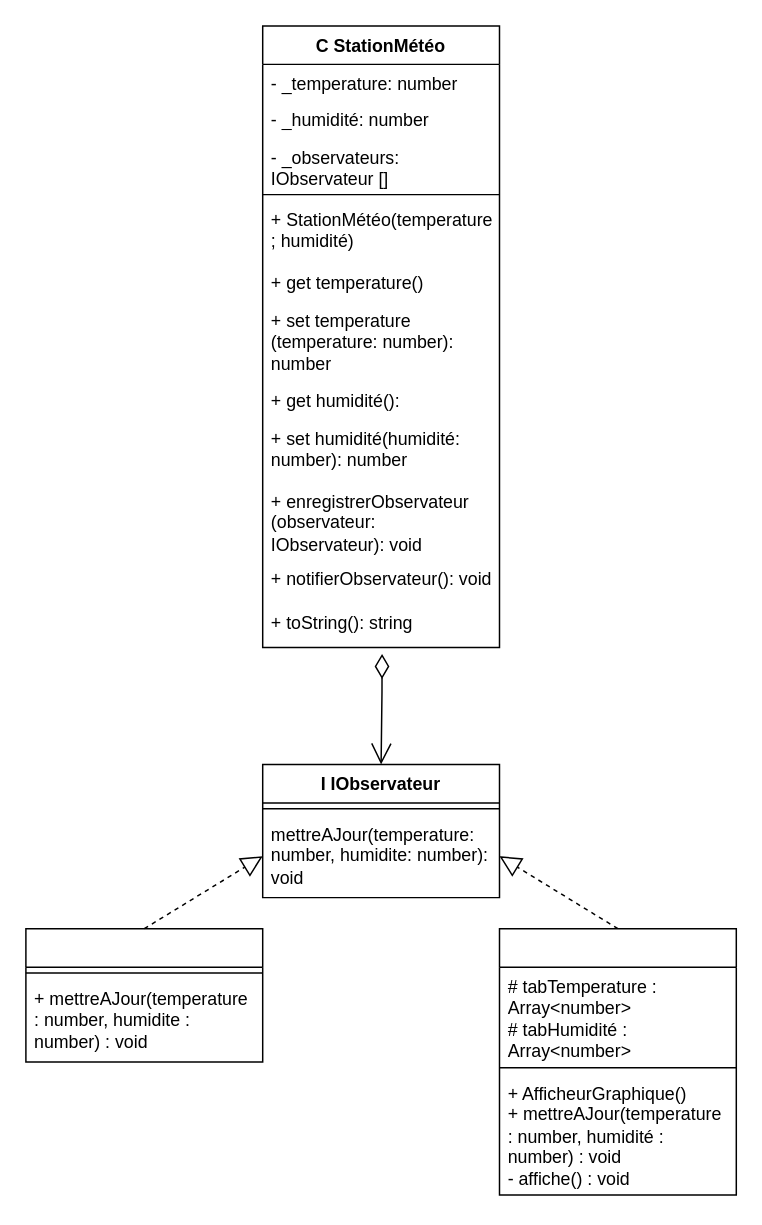
Image size: 762x1225. Some labels were removed from this diagram. The shapes that lost their labels are listed below. From the top down, each one's box as (x1, y1, x2, y2) in pixels, then its label:
(24, 927, 263, 1062): C AffichageTexte
(498, 927, 736, 1195): C AffichageGraphique
